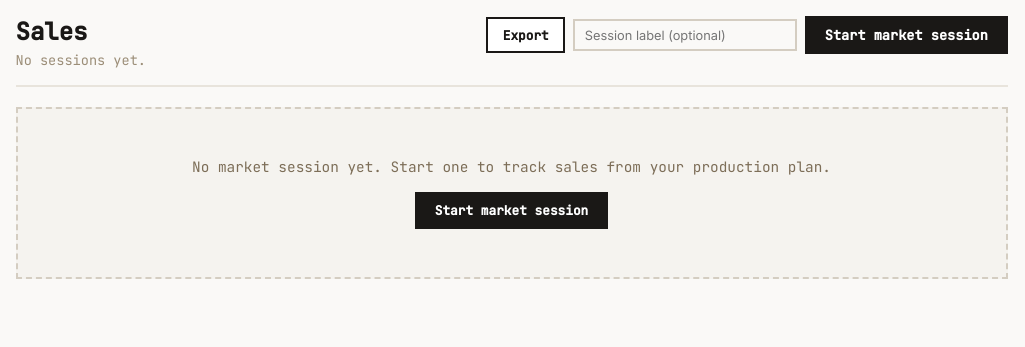
Test: SalesView › updates the session label and persists
The image size is (1025, 347).
Click the button with test id "sales-start-btn" at (906, 35), box [805,16,1008,54]
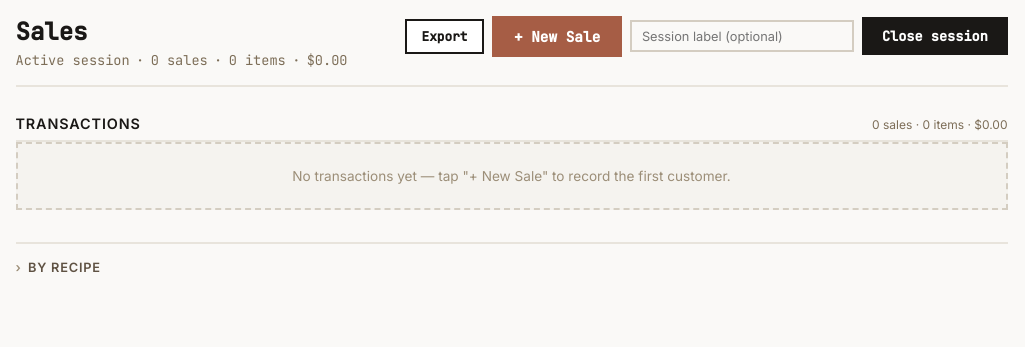
Type "Sunday Pop-up" into the field with test id "sales-label-input" at (742, 36), box [630,20,854,52]
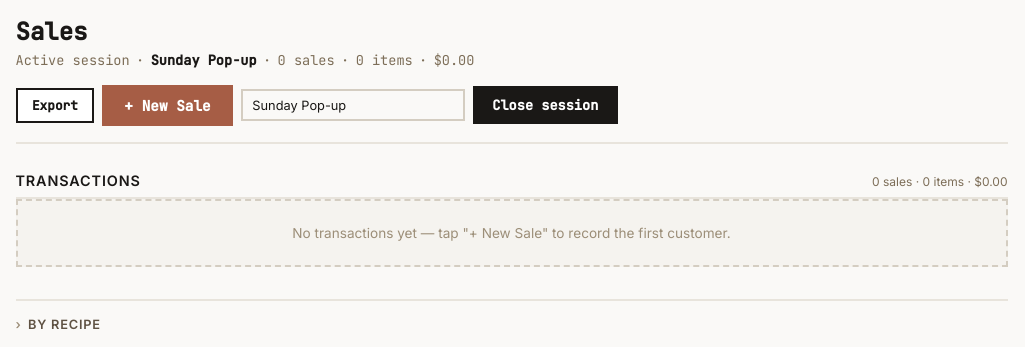
Check: the text "Sunday Pop-up" is shown, box [151,51,257,69]
